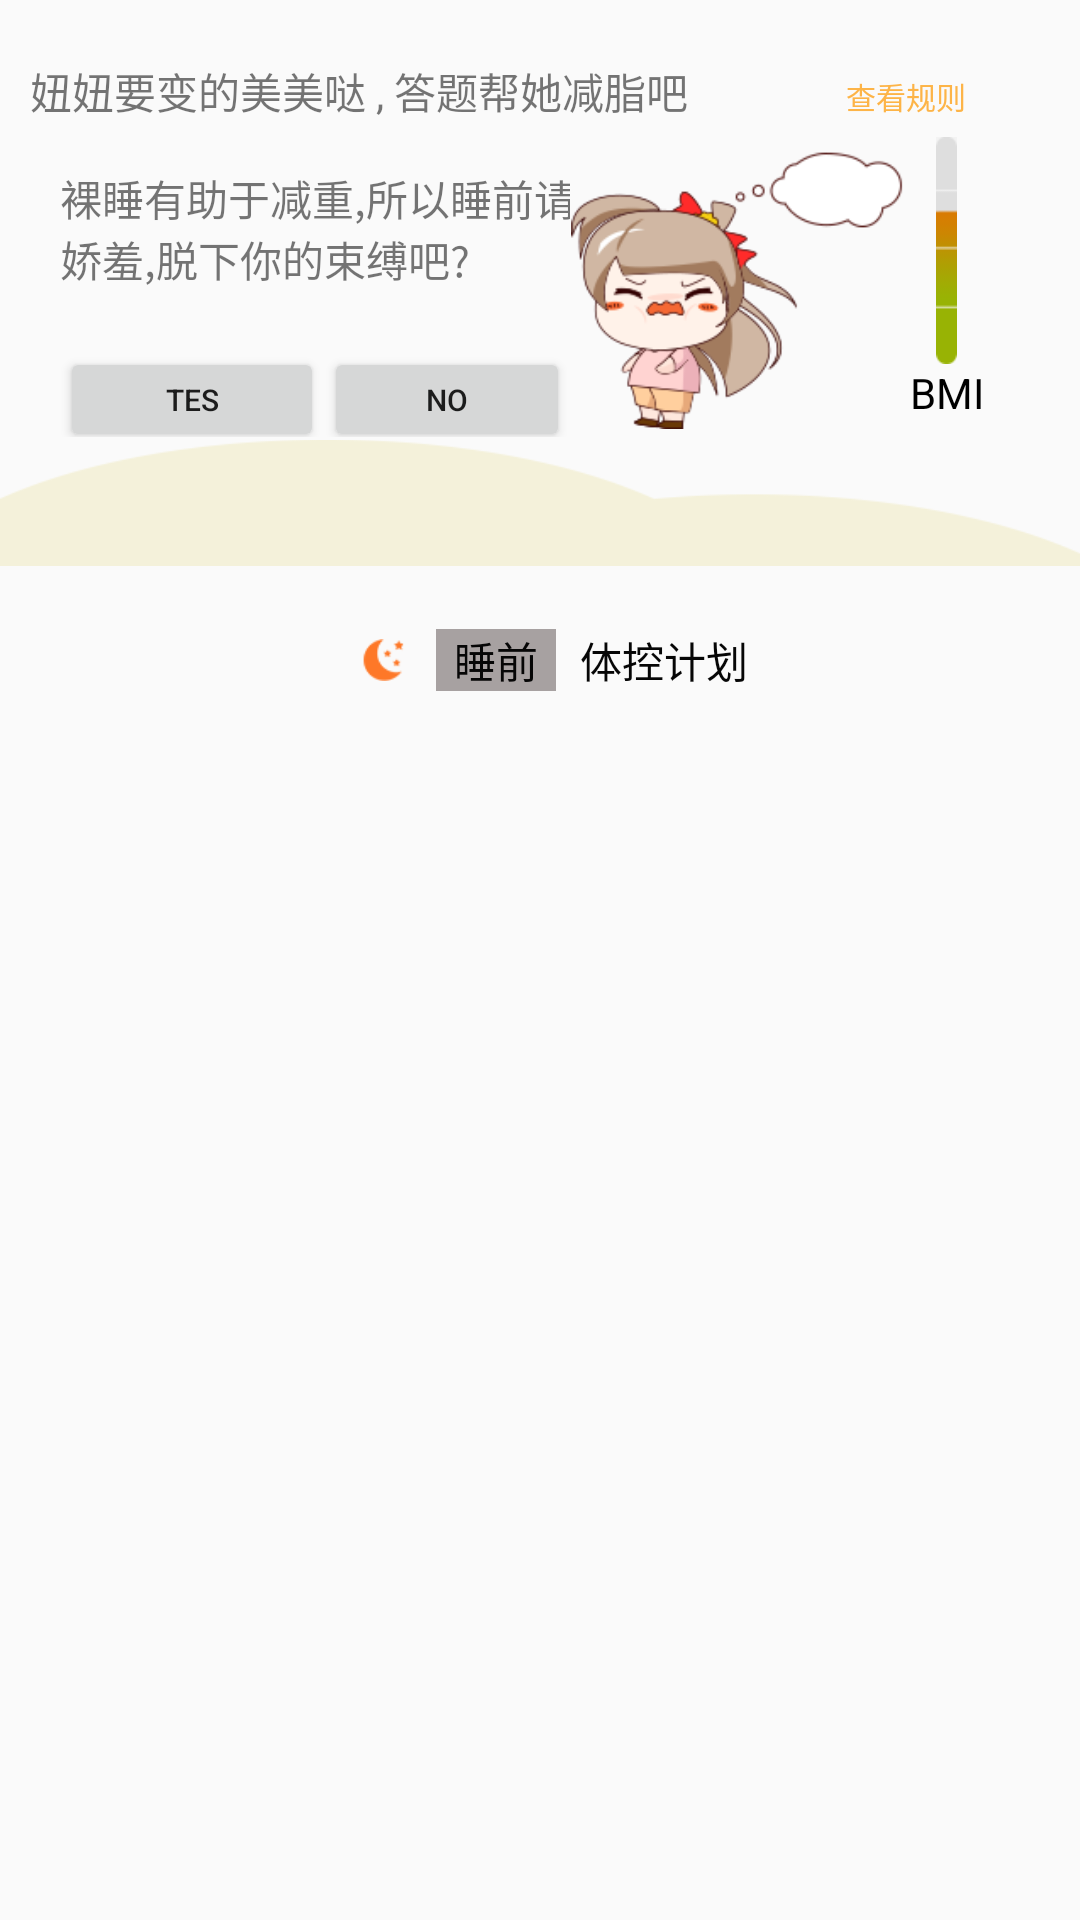

Screen size 1080*1920. Icon name, then its center in pixels as point (x, y):
bcp xiaoren: point (736, 290)
sy shuiqian: point (383, 660)
